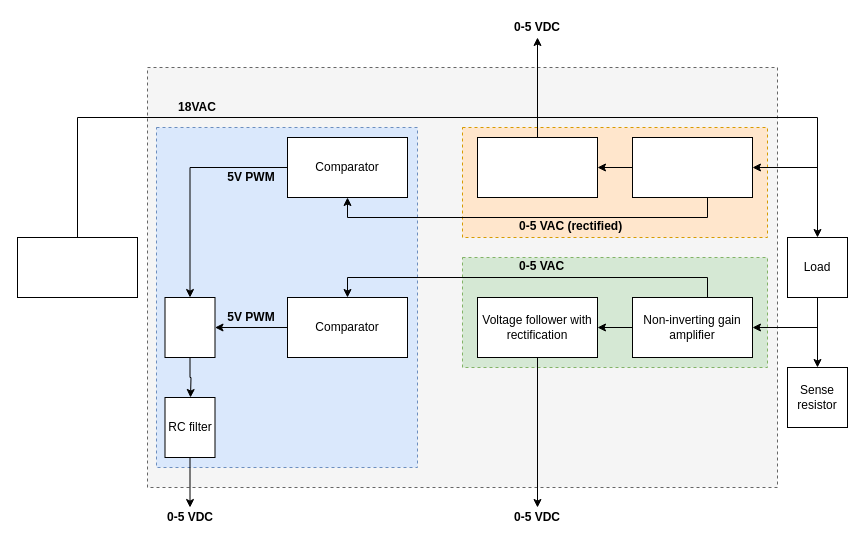
This 865x544 diagram has some shape labels left out. The shapes that lost their labels are listed below. From the top down, each one's box as (x1, y1, x2, y2) in pixels, then its label:
(476, 136, 598, 198): Voltage follower
(632, 136, 752, 198): Voltage rectifier & divider
(16, 236, 138, 298): Transformer 240 VAC to 18 VAC
(164, 296, 215, 358): XOR
